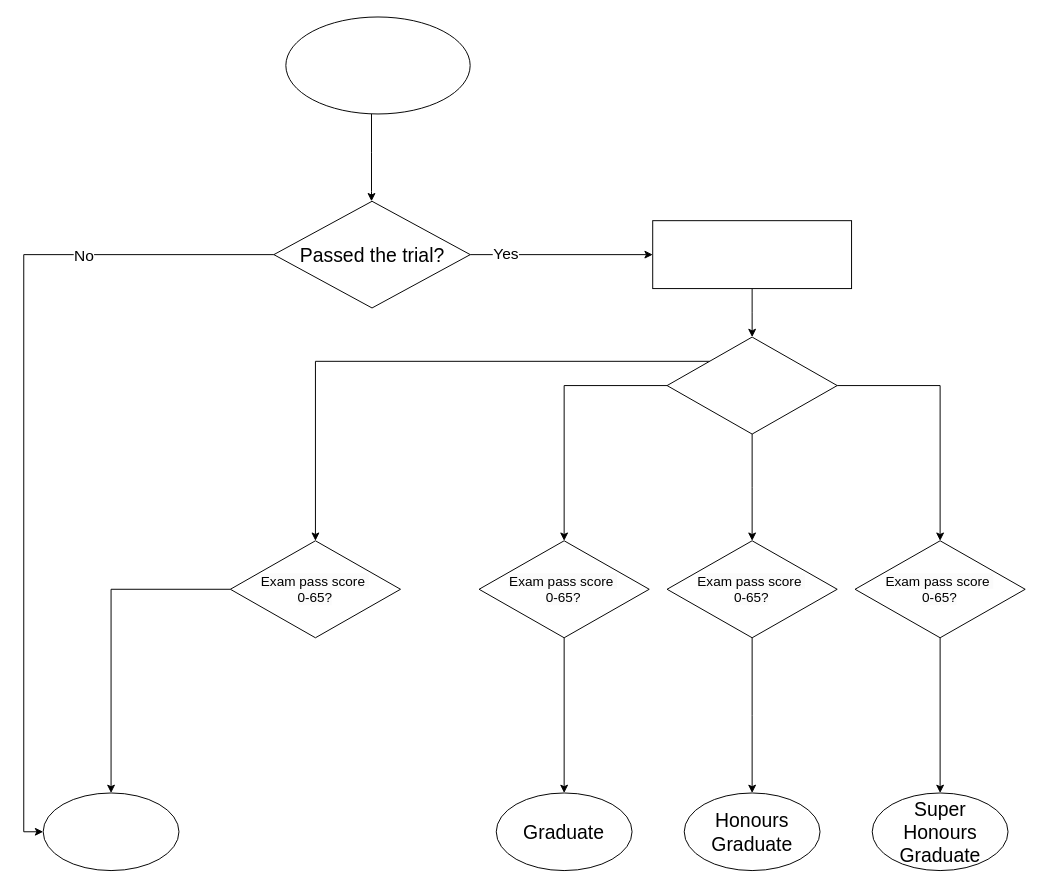
This 1043x888 diagram has some shape labels left out. Here are the shapes that lost their labels. From the top down, the centre of each, then its label:
pixel 377 65: Start
pixel 752 254: Registration / Education
pixel 751 385: Range?
pixel 110 831: Not Passed
